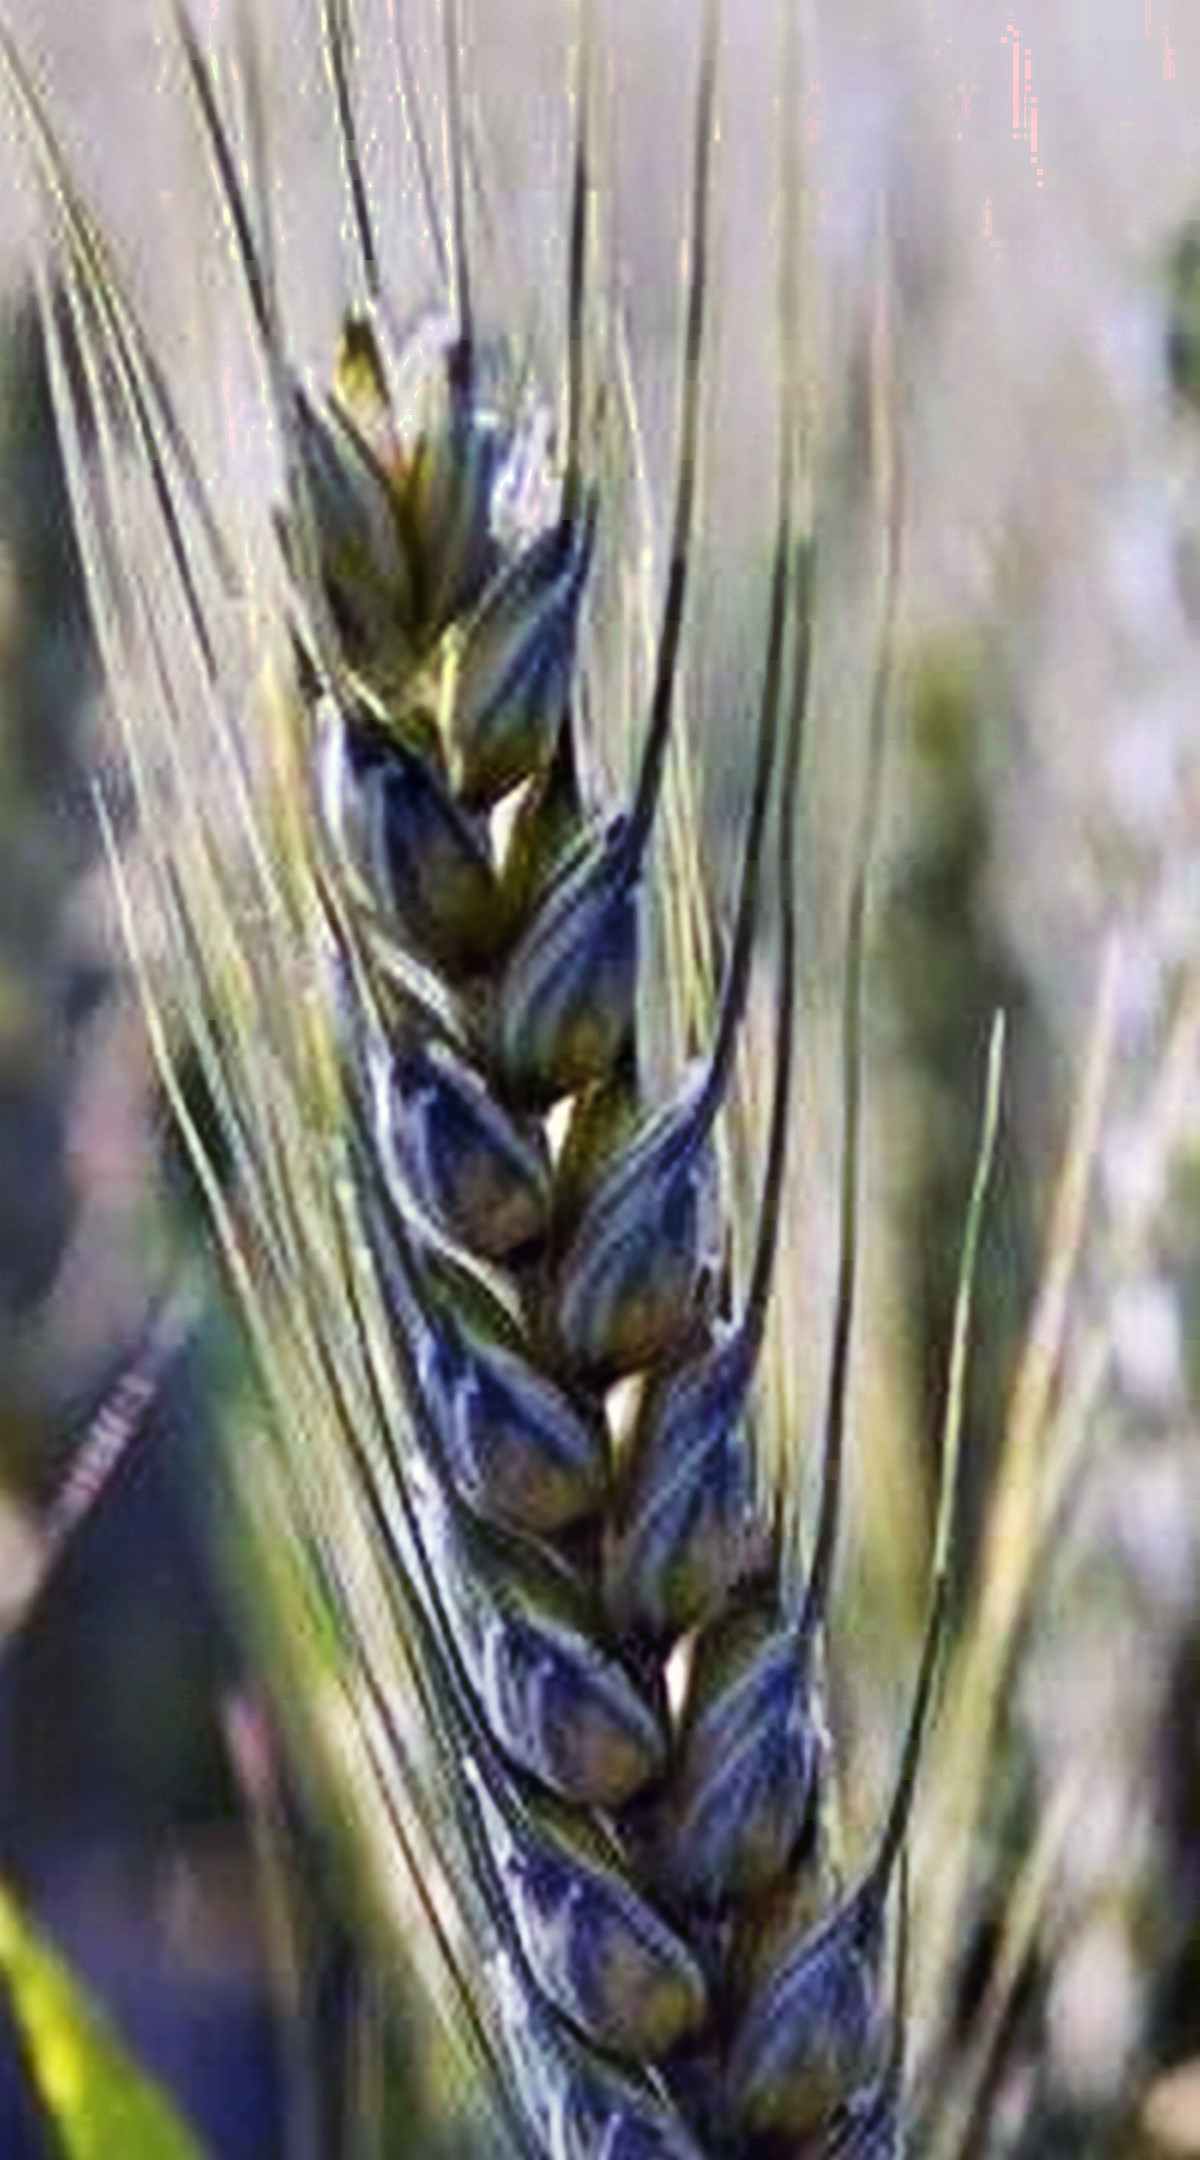Healthy Wheat: (214, 276, 930, 2098)
